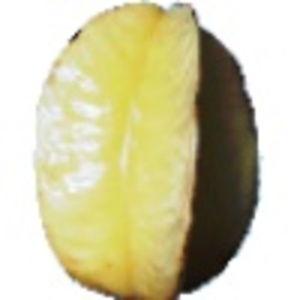carambola: (33, 1, 264, 300)
